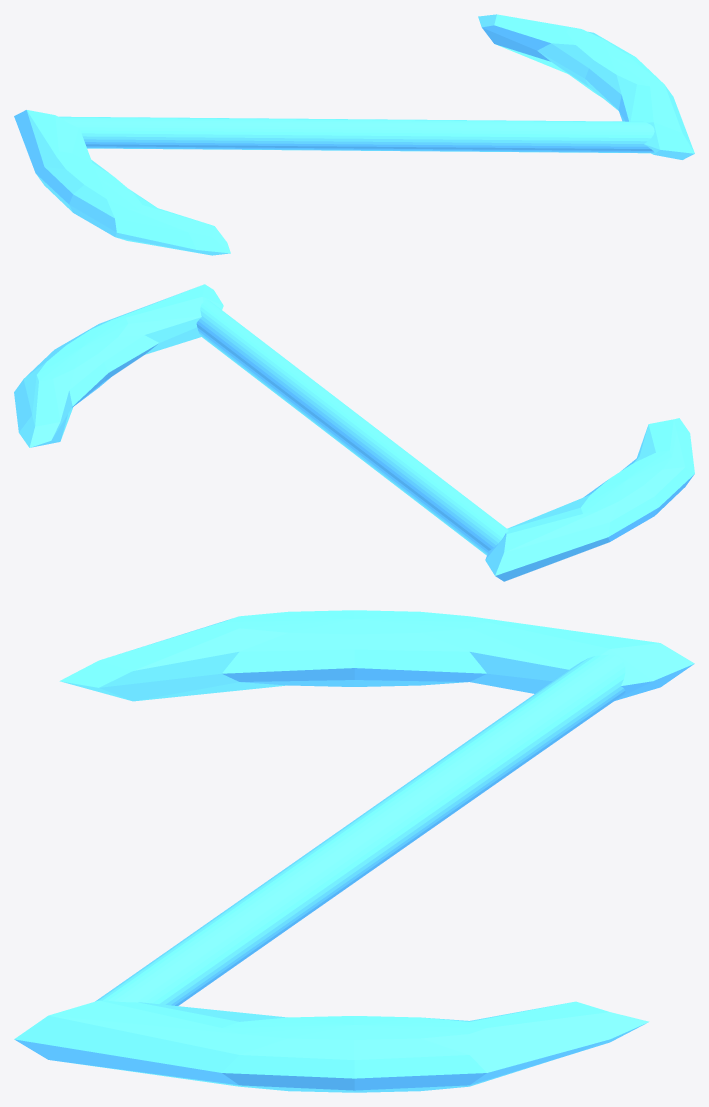
The model's file is WaterSlash.fbx.
3 views of the same model, one above another, from view 1: azimuth 30°, elevation 25°; view 2: azimuth 150°, elevation 25°; view 3: azimuth 270°, elevation 25° (orthographic). The views are drawn at different scales.
Visible parts, largest first — view 1: Cylinder, Sphere.002, Sphere.001; view 2: Cylinder, Sphere.002, Sphere.001; view 3: Sphere.001, Sphere.002, Cylinder.
Boxes of the visible parts, bbox=[...] form: Cylinder: bbox=[59, 116, 654, 153]; Sphere.002: bbox=[14, 110, 230, 255]; Sphere.001: bbox=[478, 14, 694, 159]; Cylinder: bbox=[196, 299, 508, 555]; Sphere.002: bbox=[485, 418, 694, 581]; Sphere.001: bbox=[14, 284, 223, 447]; Sphere.001: bbox=[14, 1000, 649, 1092]; Sphere.002: bbox=[59, 610, 694, 701]; Cylinder: bbox=[95, 654, 625, 1005].
Size of the model in its own units: 560 by 33.6 by 355.
